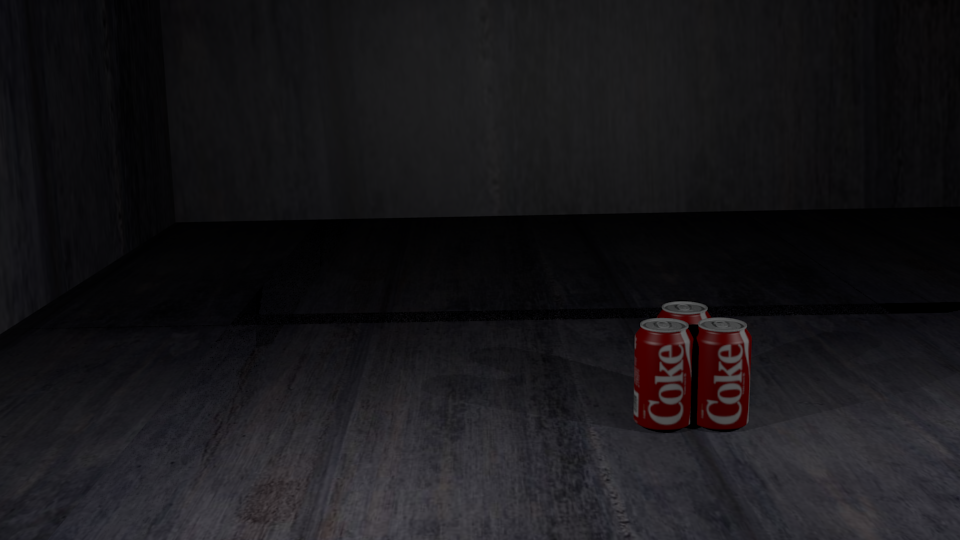cola_can: (634, 318, 692, 427), (692, 318, 751, 425), (657, 302, 711, 404)
